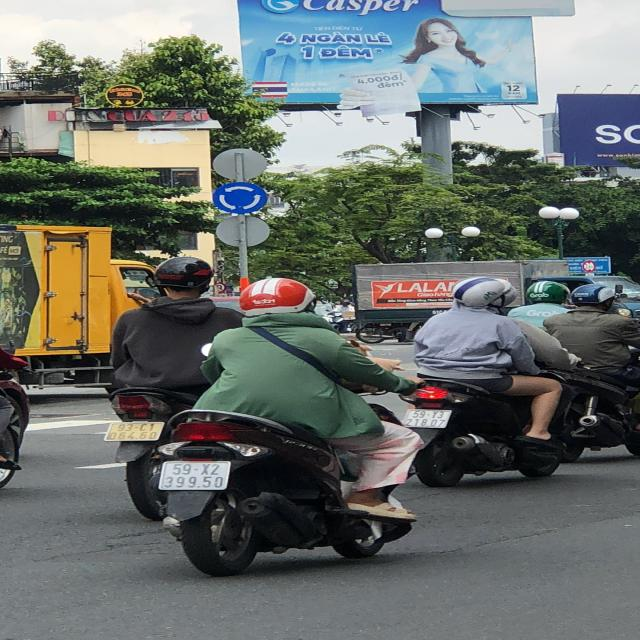Bien bao noi giao nhau chay theo vong xuyen: (212, 181, 272, 215)
